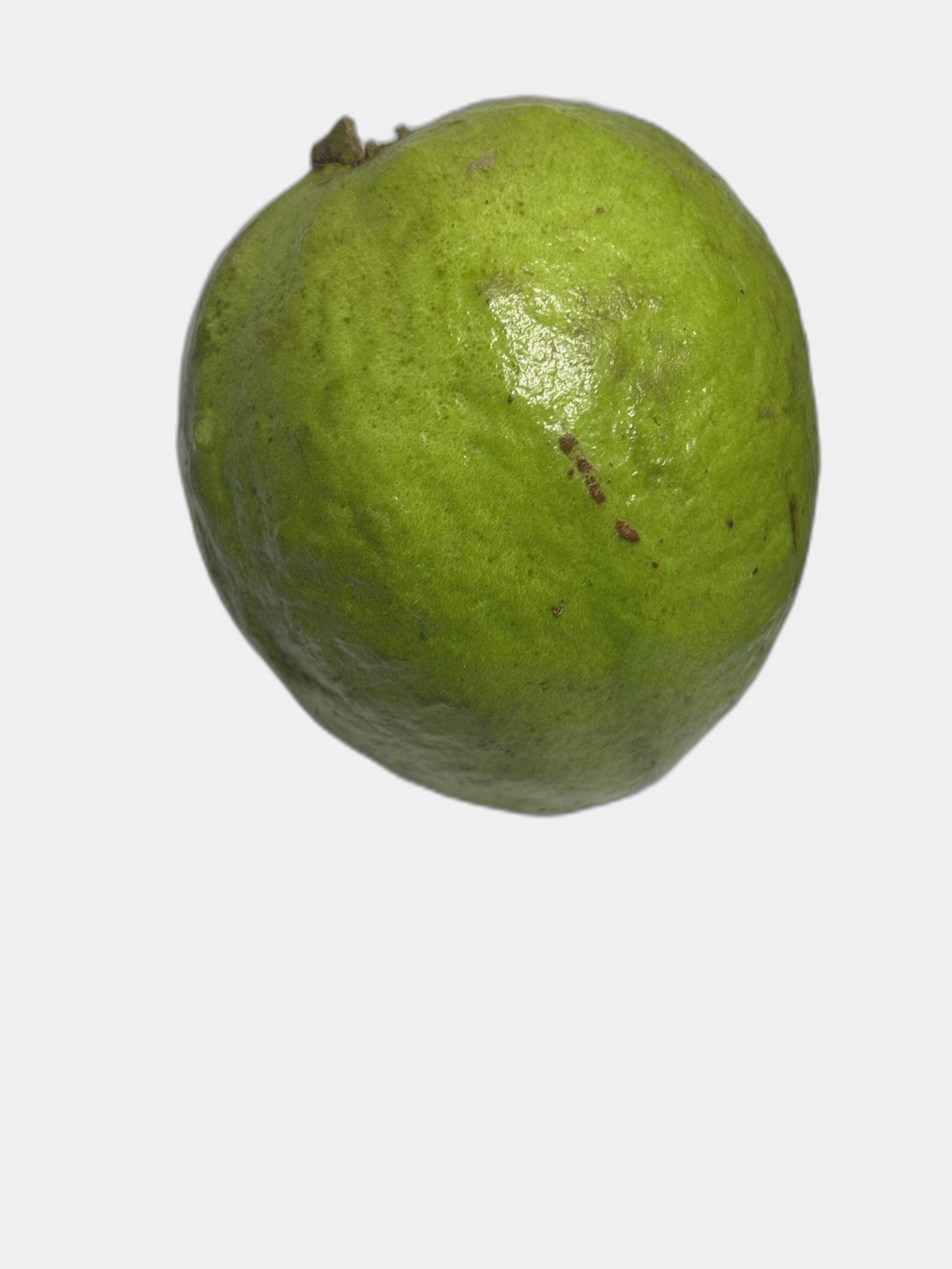guava: (224, 245, 796, 1227)
